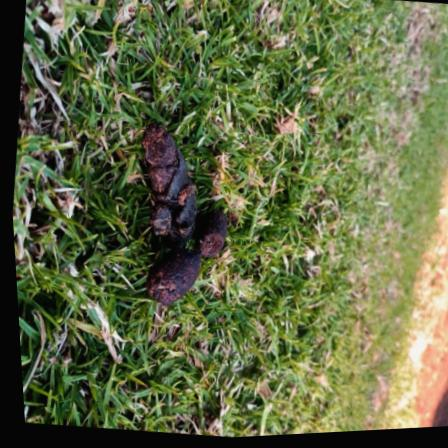dog-poop: (104, 104, 262, 329)
